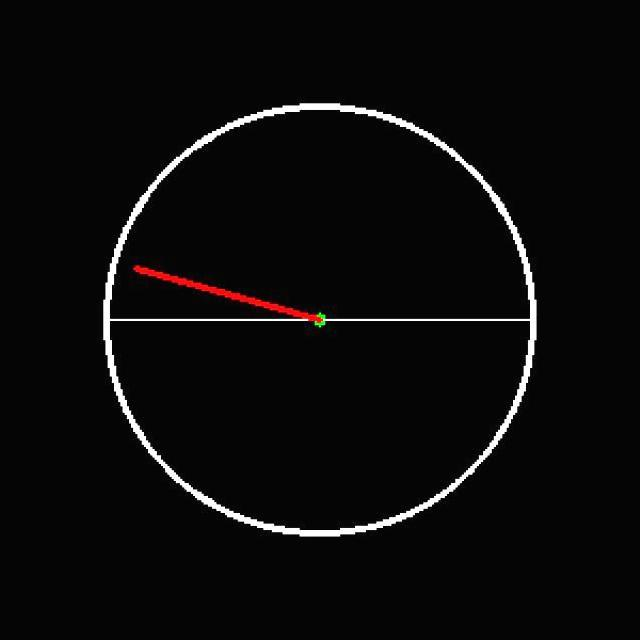Needle_Tip: (118, 235, 174, 304)
Needle_base: (246, 294, 392, 342)
